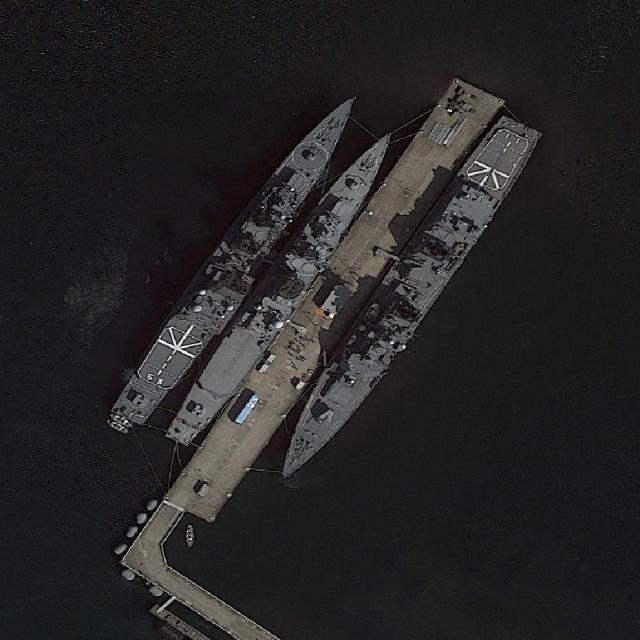Destroyer: (264, 101, 548, 492), (109, 83, 370, 431), (160, 122, 407, 454)
Dock: (162, 67, 508, 532)
